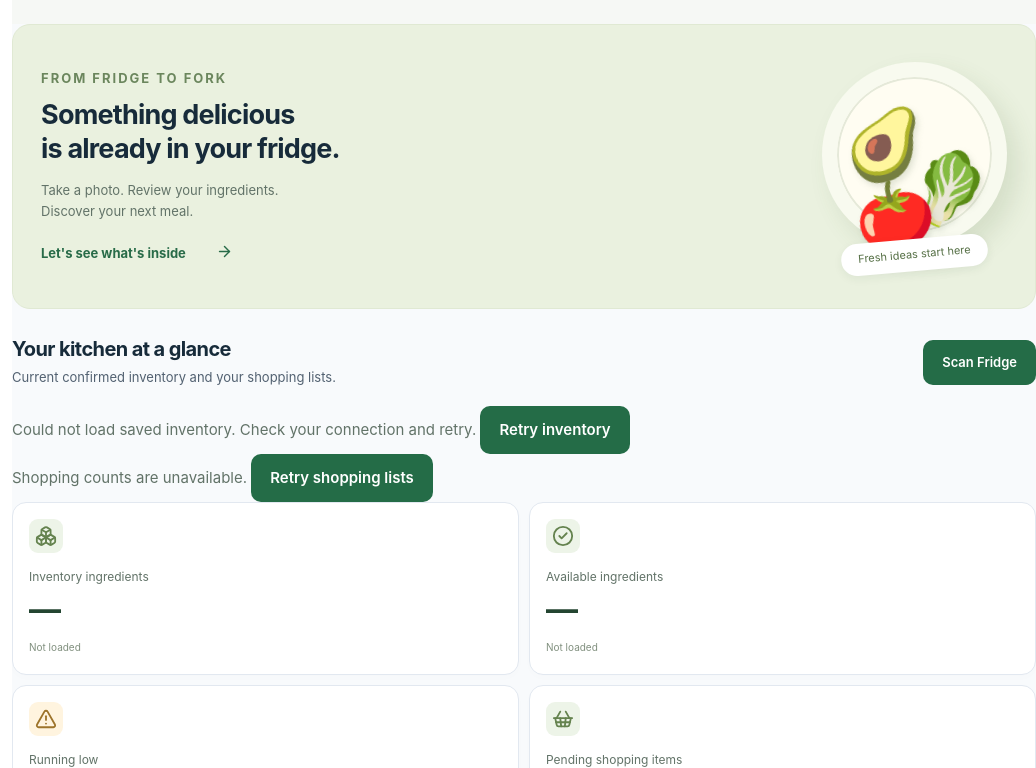
Test: shows unavailable counts instead of false zeros and retries connection errors
The width and height of the screenshot is (1036, 768).
Expected: the text "Could not load saved inventory" is shown, [12,420,476,439]
Expected: the text "—" below "Inventory ingredients" is shown, [29,590,61,629]
Click the button "Retry inventory" at [555, 430], box [480,406,630,454]
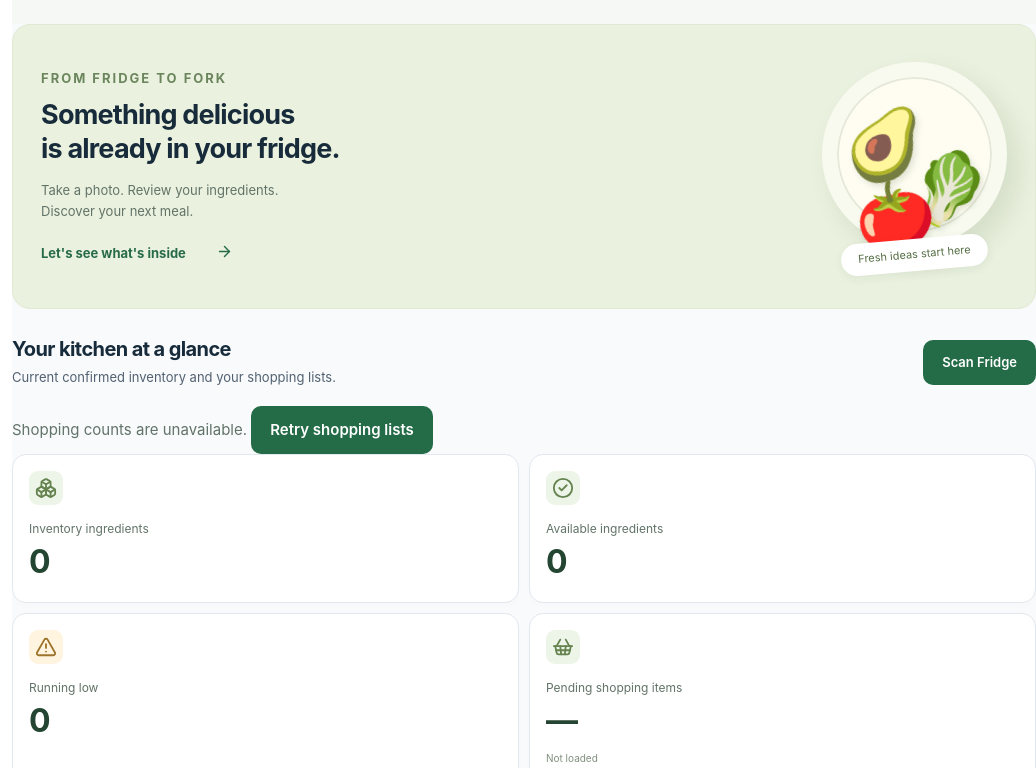
Now the text "0" below "Inventory ingredients" is shown, box [29,542,51,581]
